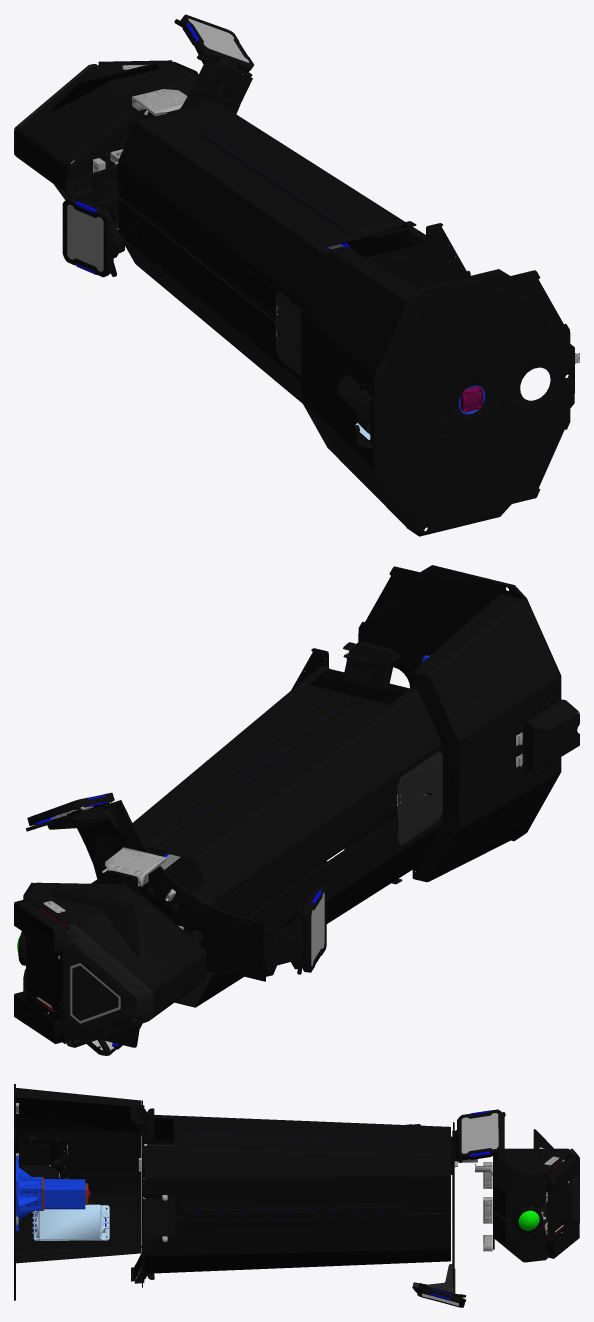
File: 0_1_1_16_blue.dae
3 views of the same model, one above another, from view 1: azimuth 30°, elevation 25°; view 2: azimuth 150°, elevation 25°; view 3: azimuth 270°, elevation 25° (orthographic). The views are drawn at different scales.
Visible parts, largest first — view 1: node; view 2: node; view 3: node.
Part boxes in pixels (x1=…): node: x1=14, y1=14, x2=579, y2=536; node: x1=14, y1=565, x2=579, y2=1055; node: x1=14, y1=1084, x2=579, y2=1307.
Size of the model in its own units: 0.5311 by 1.47 by 0.5659.
